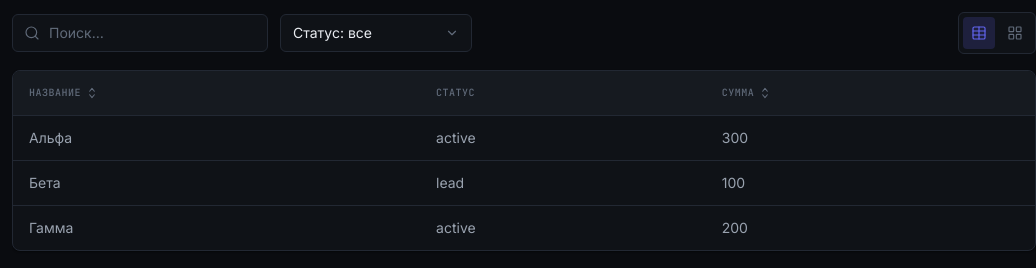
Test: DataTable component › показывает пустое состояние при отсутствии совпадений и сбрасывает его
In the field named "Поиск по таблице": (140, 33) left=12, top=14, right=268, bottom=52, type "нет-такого"
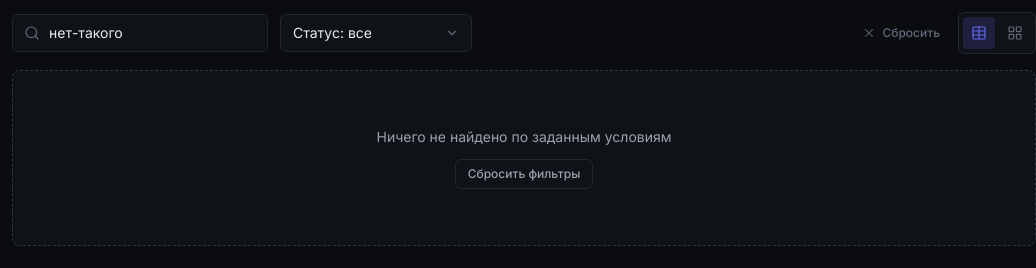
Expected: the text "Ничего не найдено по заданным условиям" is shown, left=376, top=127, right=672, bottom=147
Click the button "Сбросить фильтры": (524, 174) left=455, top=159, right=593, bottom=189
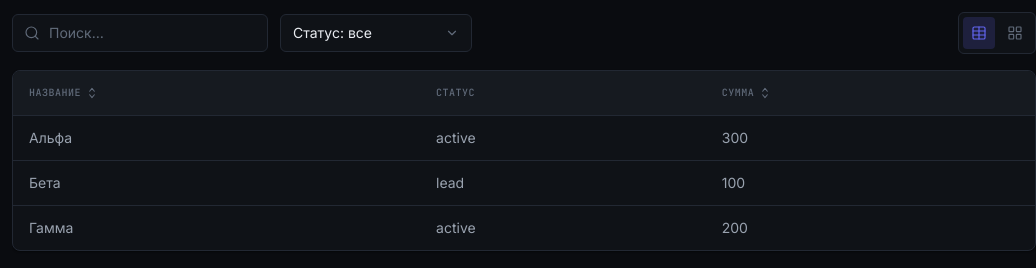
Expected: the text "Альфа" is shown, left=13, top=116, right=420, bottom=160
